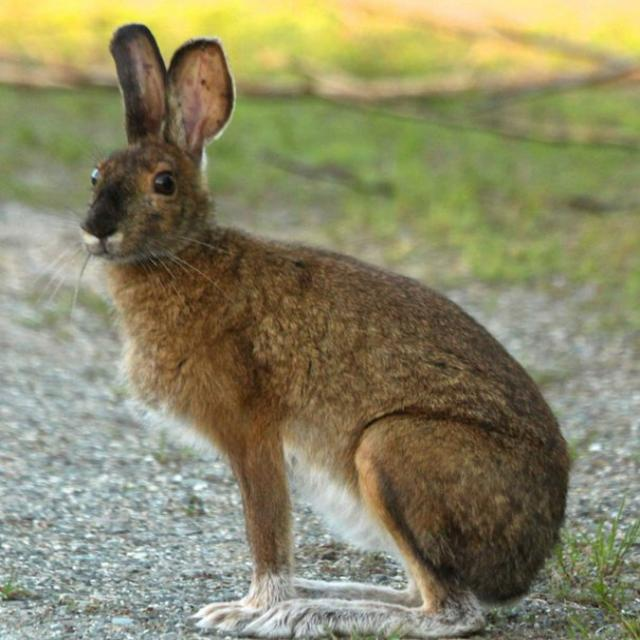Hare: (72, 10, 582, 640)
